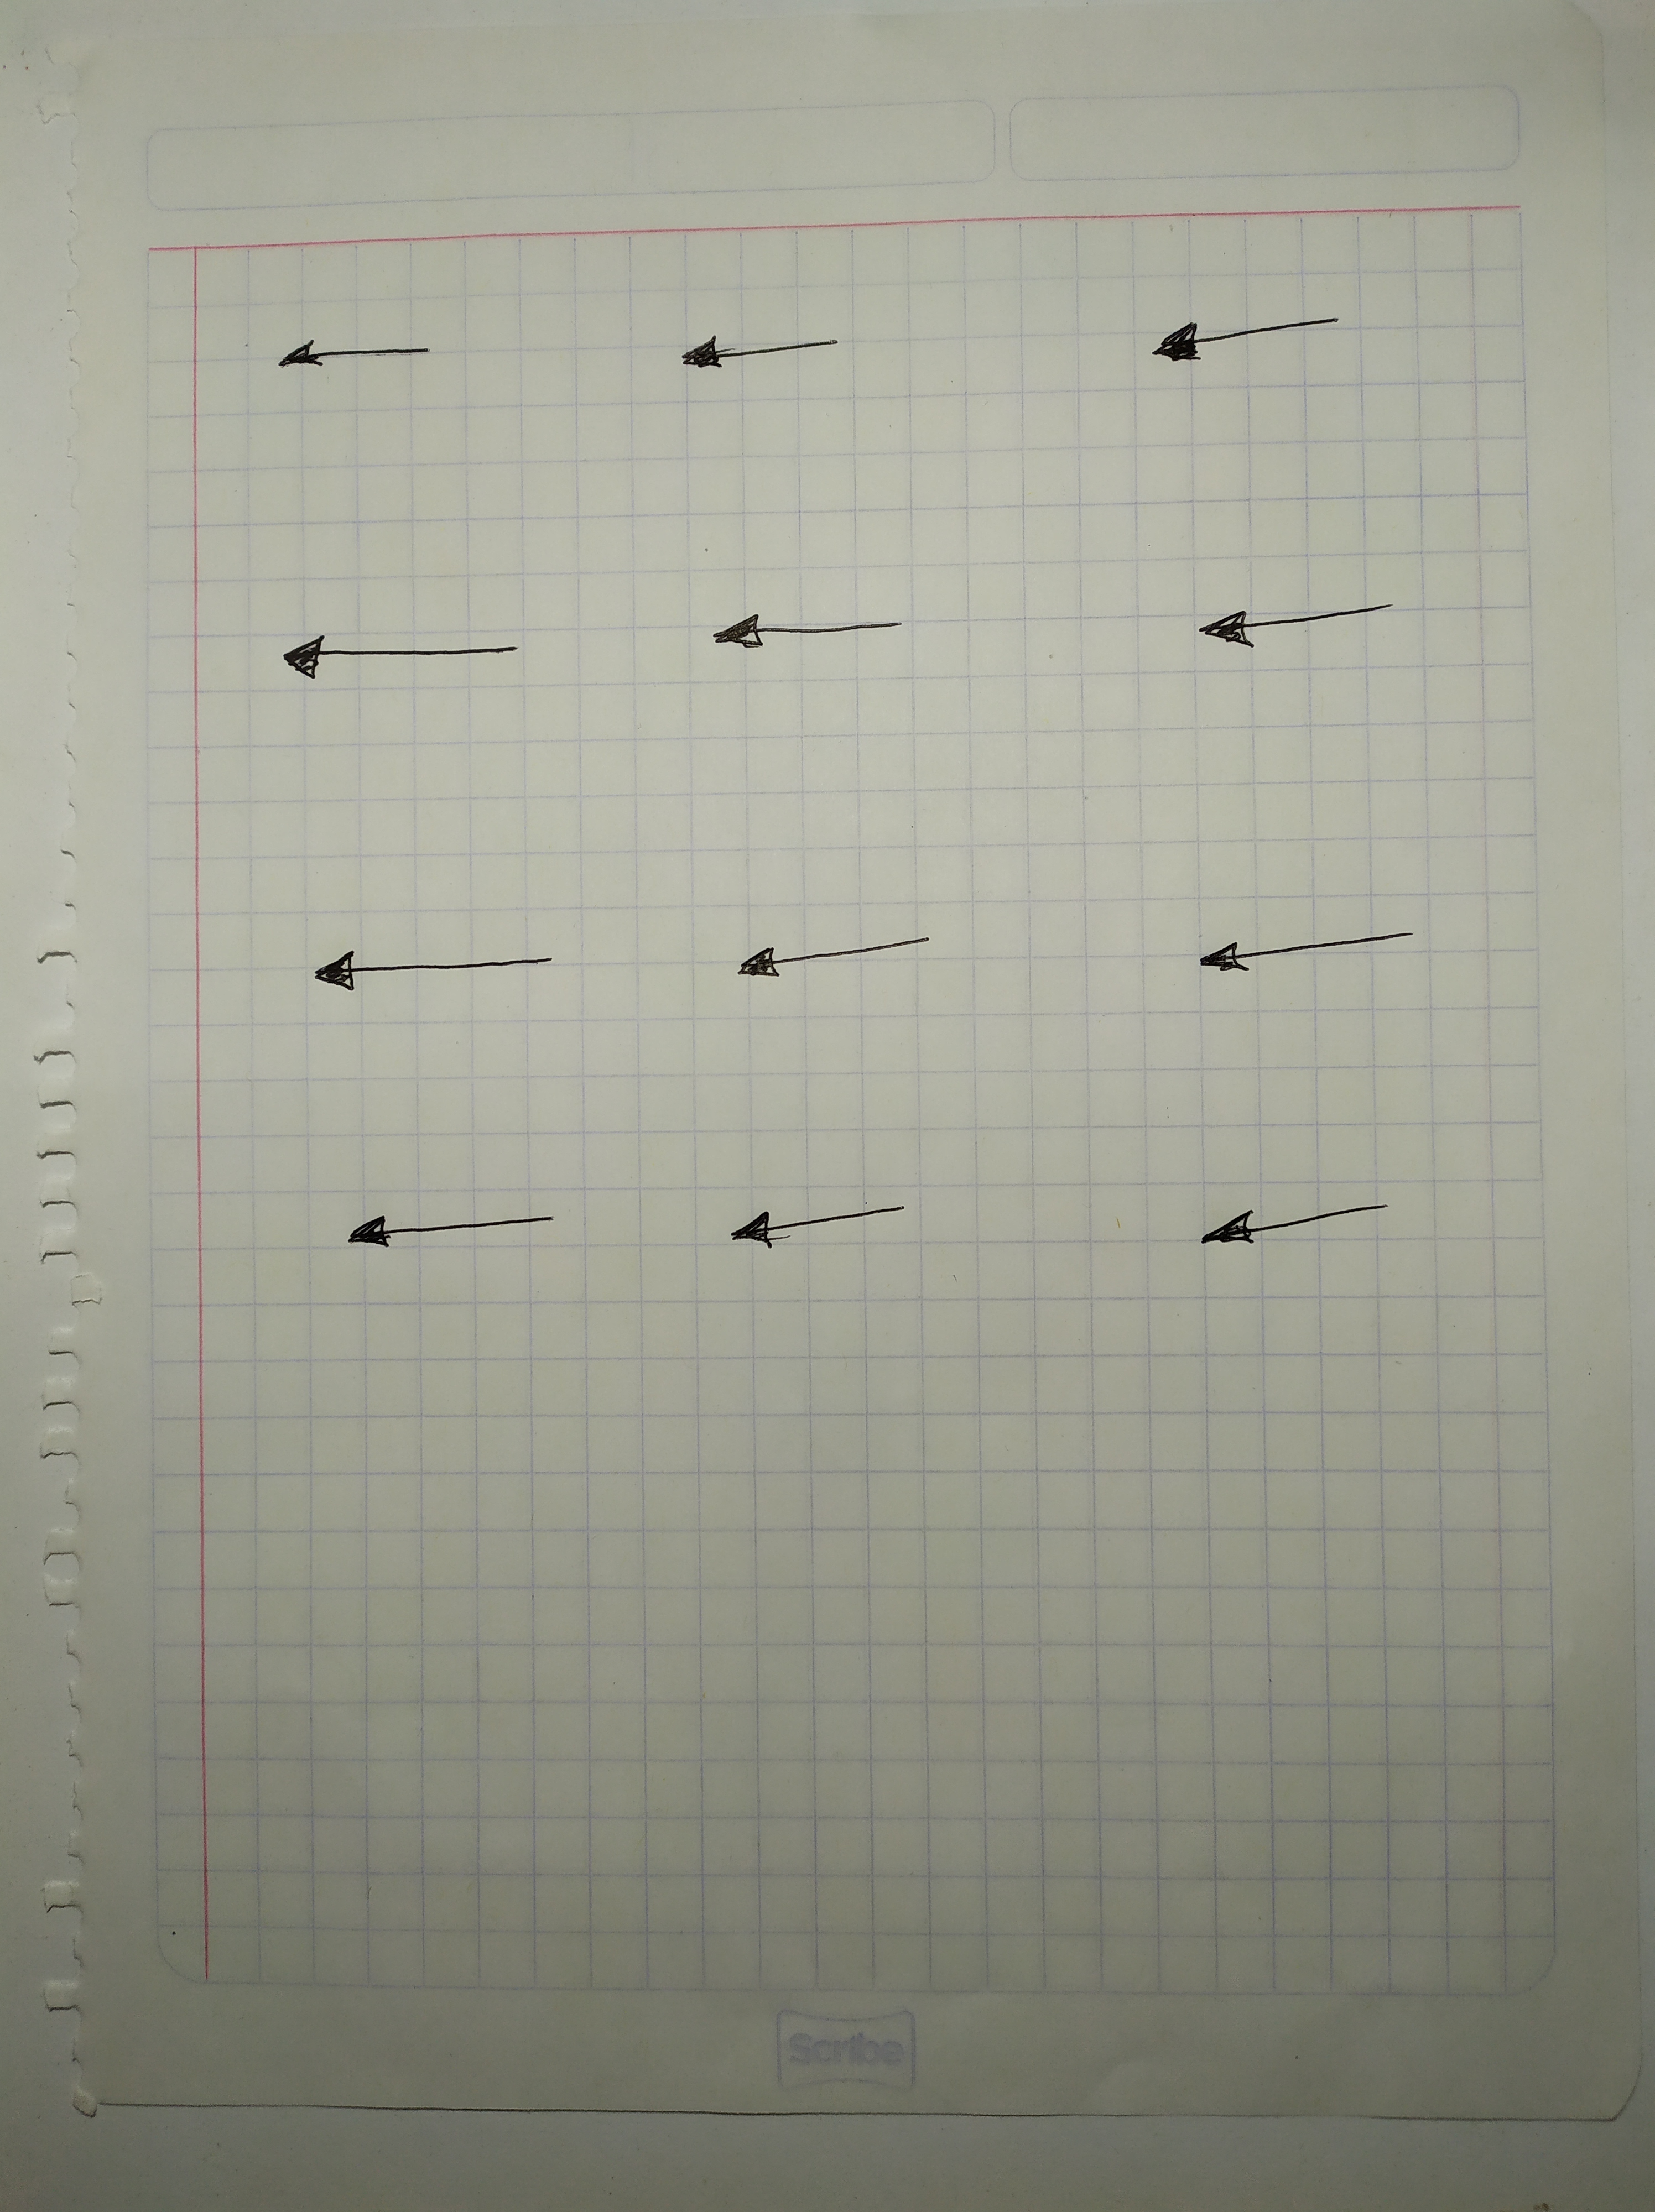arrow_line_left: (243, 617, 572, 702), (1166, 1187, 1432, 1272), (285, 931, 588, 1004), (1132, 299, 1389, 384), (695, 1180, 940, 1265), (695, 926, 977, 999), (1168, 587, 1408, 666), (685, 608, 932, 679), (323, 1194, 574, 1263), (1180, 919, 1441, 982), (648, 323, 897, 384), (261, 325, 468, 382)
